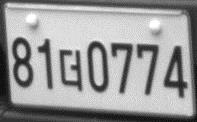0: (86, 40, 110, 92)
1: (35, 37, 59, 90)
4: (162, 44, 188, 98)
7: (135, 43, 160, 96), (110, 42, 134, 94)
8: (11, 37, 34, 87)
더: (58, 47, 85, 93)
